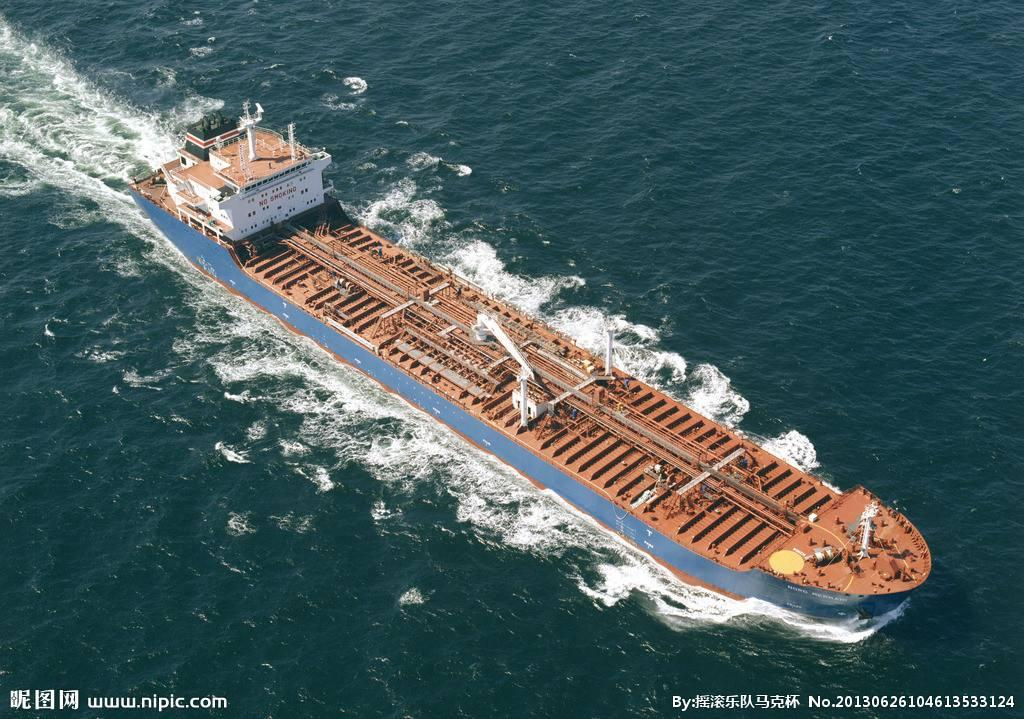Cargoship: (119, 99, 936, 624)
